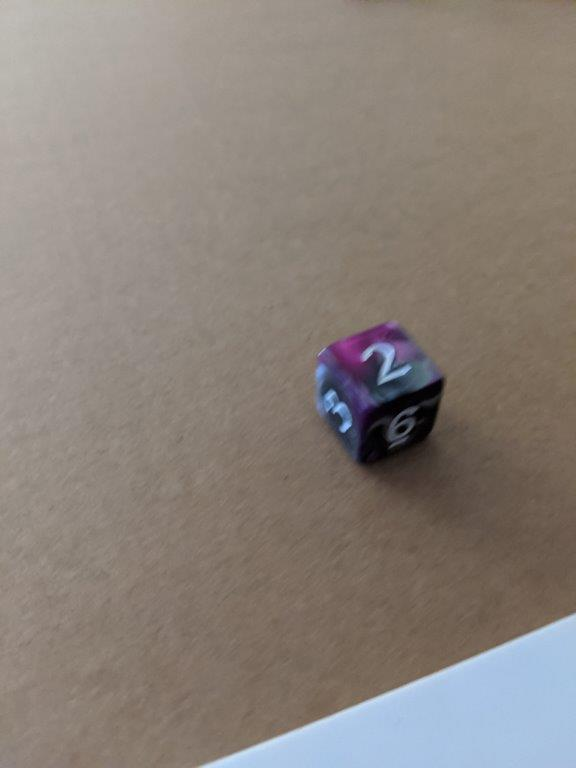d6-2: (314, 321, 446, 469)
